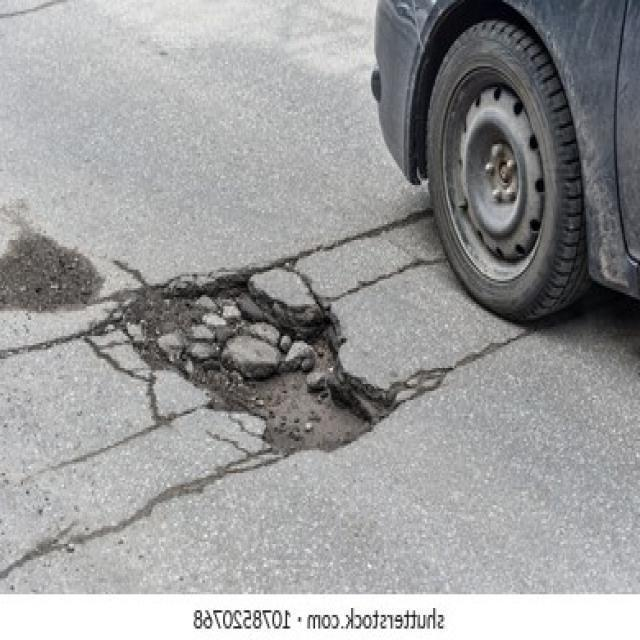pothole: (127, 261, 391, 457)
